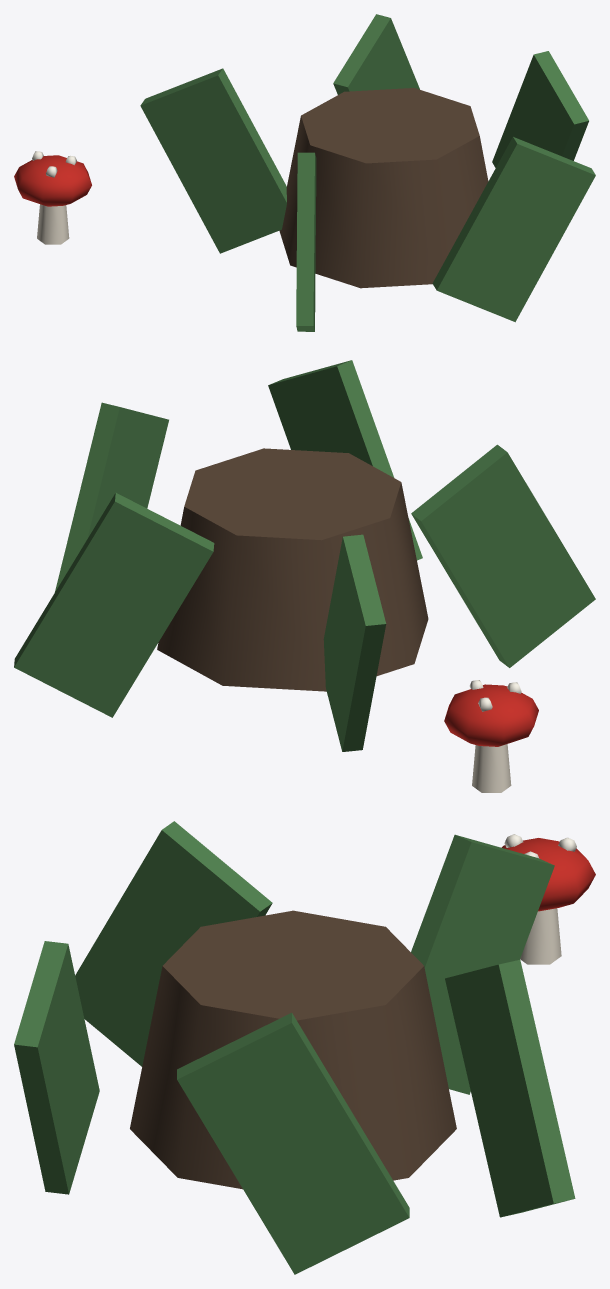
Rendered from plant-toadstool.glb.
The picture shows the model from 3 angles, top to bottom: view 1: azimuth 30°, elevation 25°; view 2: azimuth 150°, elevation 25°; view 3: azimuth 270°, elevation 25°; orthographic projection. The views are drawn at different scales.
Visible parts, largest first — view 1: 01_#4a7a48_noshadow_r110, 00_#5a4636_r110, 03_#c02a22_r110, 02_#e8e0d0_noshadow_r110; view 2: 01_#4a7a48_noshadow_r110, 00_#5a4636_r110, 03_#c02a22_r110, 02_#e8e0d0_noshadow_r110; view 3: 01_#4a7a48_noshadow_r110, 00_#5a4636_r110, 03_#c02a22_r110, 02_#e8e0d0_noshadow_r110.
Boxes of the visible parts, left/top/right/bottom form: 01_#4a7a48_noshadow_r110: left=140, top=14, right=595, bottom=331; 00_#5a4636_r110: left=279, top=88, right=488, bottom=288; 03_#c02a22_r110: left=14, top=155, right=91, bottom=206; 02_#e8e0d0_noshadow_r110: left=37, top=204, right=69, bottom=244; 01_#4a7a48_noshadow_r110: left=14, top=360, right=595, bottom=751; 00_#5a4636_r110: left=157, top=448, right=428, bottom=691; 03_#c02a22_r110: left=444, top=684, right=538, bottom=746; 02_#e8e0d0_noshadow_r110: left=472, top=744, right=511, bottom=792; 01_#4a7a48_noshadow_r110: left=14, top=821, right=575, bottom=1274; 00_#5a4636_r110: left=130, top=910, right=456, bottom=1189; 03_#c02a22_r110: left=501, top=838, right=595, bottom=911; 02_#e8e0d0_noshadow_r110: left=520, top=908, right=561, bottom=964.
Size of the model in its own units: 0.885 by 0.34 by 0.7115.
